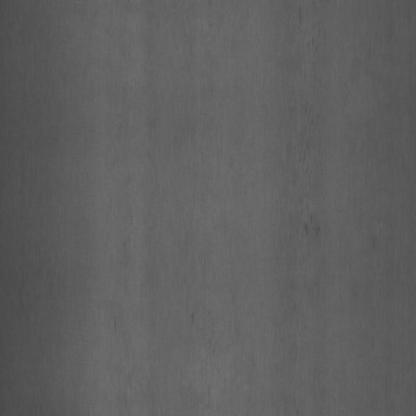silk_spot: (279, 103, 322, 274)
